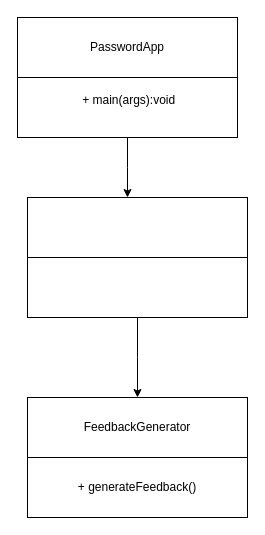
Image size: 265x535. Some labels were removed from this diagram. Each missing label, with the centre of its shape:
+ evaluateCriteria() + determineStrength(): the point at 137,287
CriteriaChecker: the point at 137,227
